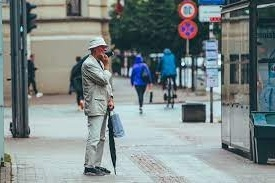not_fallen: (82, 39, 117, 175), (126, 55, 150, 115), (156, 47, 179, 108), (68, 54, 87, 111), (25, 53, 43, 100)
